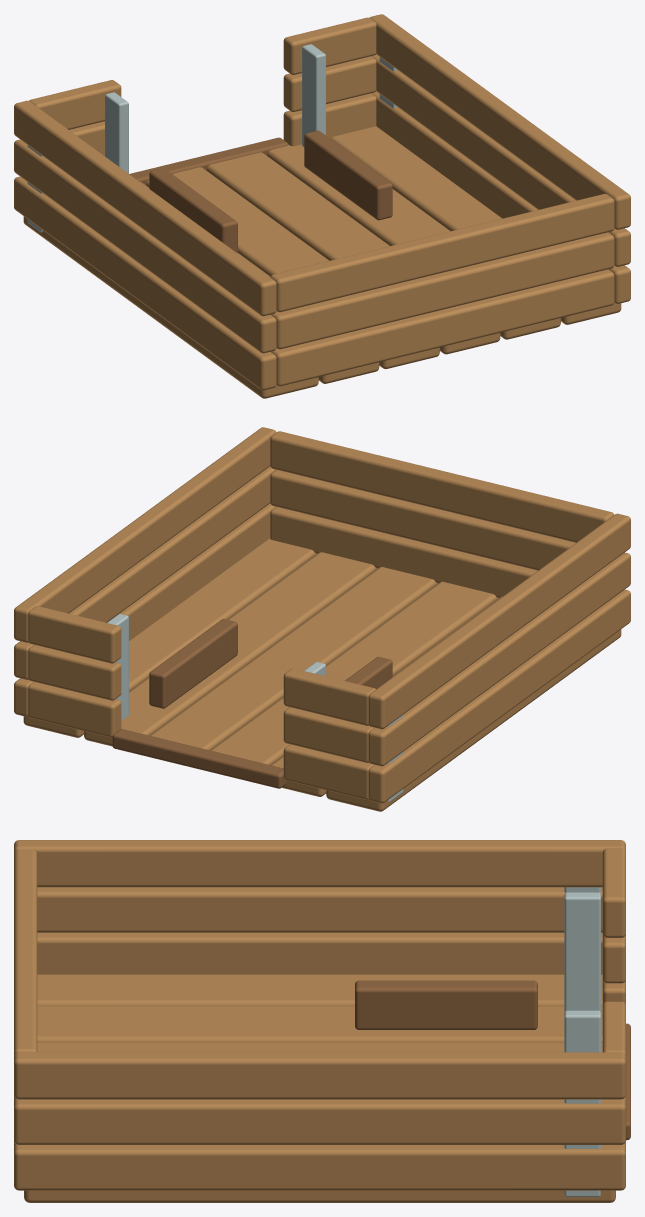
Rendered from chassis-wood-crate.glb.
3 renders of one model, top to bottom at view 1: azimuth 30°, elevation 25°; view 2: azimuth 150°, elevation 25°; view 3: azimuth 270°, elevation 25°, orthographic. The views are drawn at different scales.
Parts seen in each view (by area): view 1: wood, edge, steel; view 2: wood, edge, steel; view 3: wood, edge, steel.
Part boxes in pixels (<box>): wood: <box>14,14,630,398</box>; edge: <box>129,130,392,253</box>; steel: <box>27,44,397,232</box>; wood: <box>14,427,630,811</box>; edge: <box>112,619,392,788</box>; steel: <box>107,614,403,802</box>; wood: <box>14,840,625,1202</box>; edge: <box>355,980,630,1140</box>; steel: <box>564,887,600,1196</box>.
Size of the model in its own units: 1.58 by 0.4895 by 1.86.
